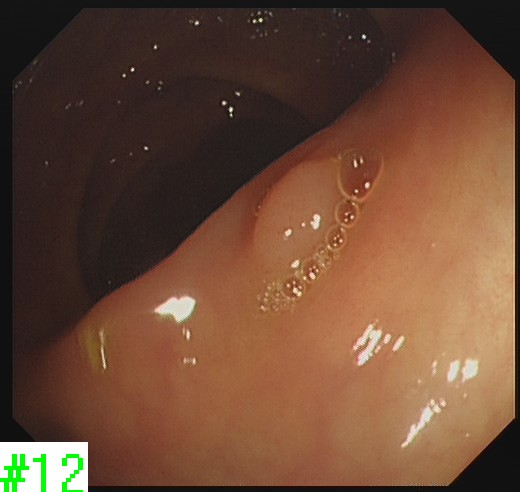adenoma: (248, 154, 347, 275)
